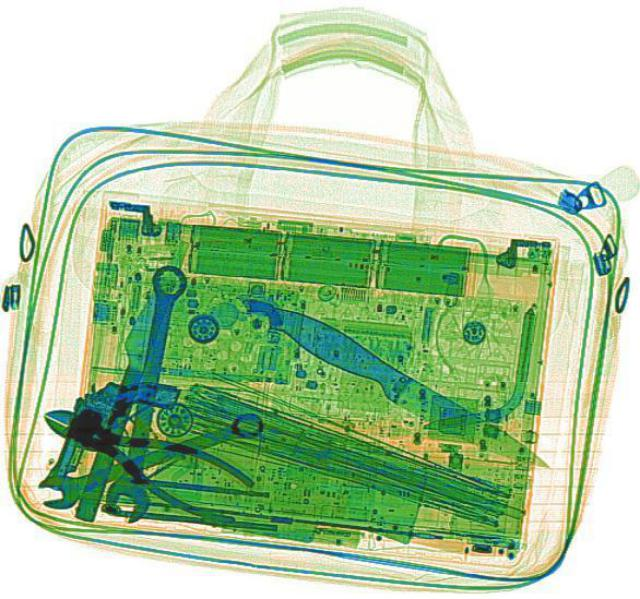Gun: (38, 358, 182, 508)
Knife: (257, 298, 557, 477), (60, 237, 190, 522)
Pliers: (27, 382, 263, 532)
Wrench: (96, 261, 200, 522), (29, 402, 267, 515)
